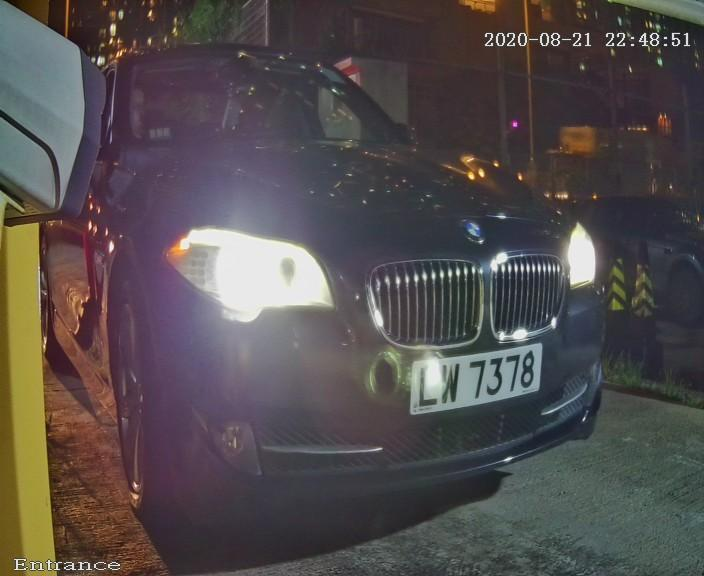Car: (29, 13, 651, 525)
License Plate: (376, 329, 565, 434)
